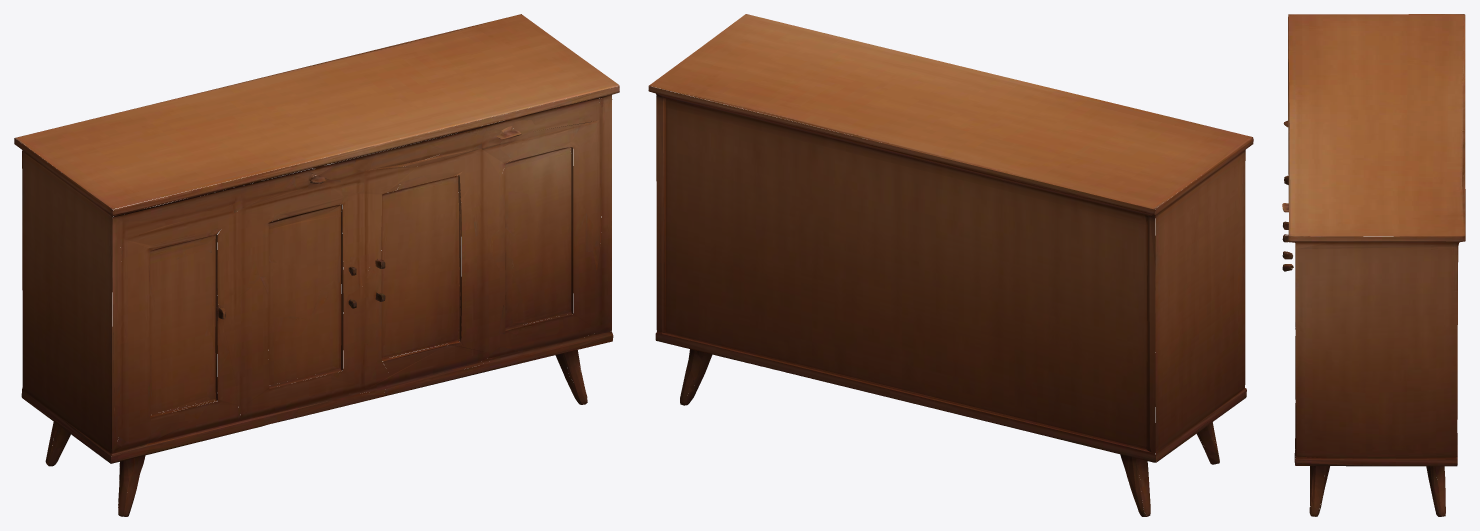
The model's file is chest.glb.
The picture shows the model from 3 angles, left to right: view 1: azimuth 30°, elevation 25°; view 2: azimuth 150°, elevation 25°; view 3: azimuth 270°, elevation 25°; orthographic projection. The views are drawn at different scales.
Parts seen in each view (by area): view 1: geometry_0; view 2: geometry_0; view 3: geometry_0.
Part boxes in pixels (x1,y1,x2,y2): geometry_0: [14, 14, 619, 516]; geometry_0: [648, 14, 1253, 516]; geometry_0: [1282, 14, 1465, 516].
Bounding box in the file's own units: 0.9998 × 0.609 × 0.3477.
Materials: 1 (1 with a texture image).
